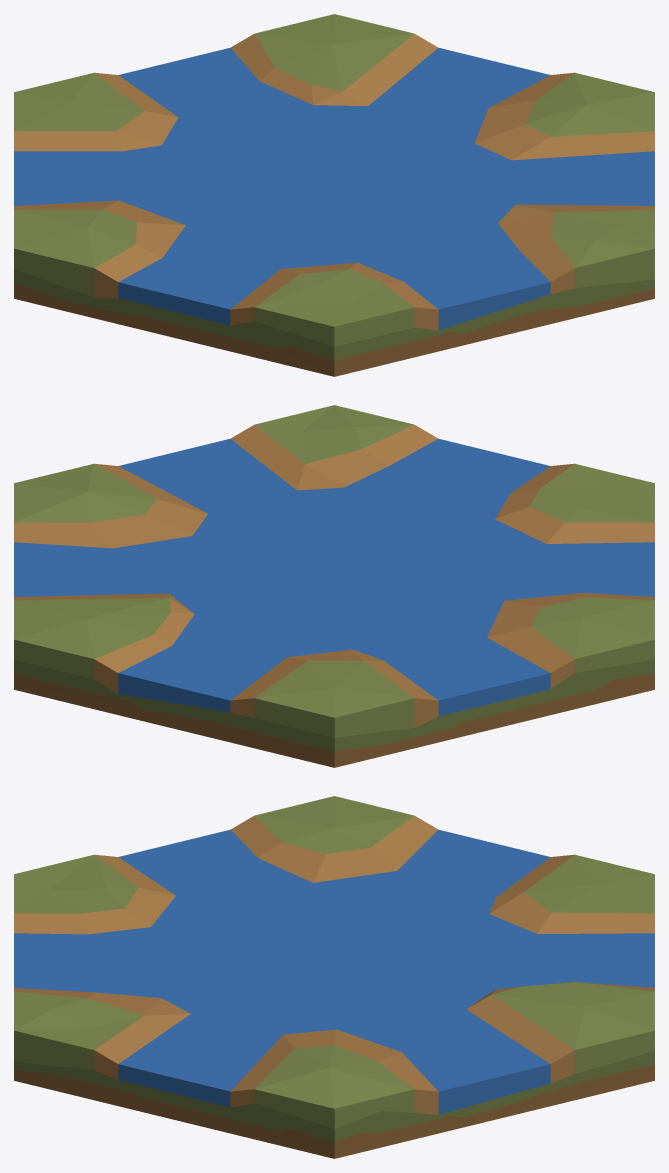
File: SM_Tile_Hex_River_10.glb
The picture shows the model from 3 angles, top to bottom: view 1: azimuth 30°, elevation 25°; view 2: azimuth 150°, elevation 25°; view 3: azimuth 270°, elevation 25°; orthographic projection.
Visible parts, largest first — view 1: SM_Tile_Hex_River_10; view 2: SM_Tile_Hex_River_10; view 3: SM_Tile_Hex_River_10.
Part boxes in pixels (bbox=[...]): SM_Tile_Hex_River_10: bbox=[14, 14, 654, 376]; SM_Tile_Hex_River_10: bbox=[14, 405, 654, 767]; SM_Tile_Hex_River_10: bbox=[14, 796, 654, 1158].
Bounding box in the file's own units: 5.77 × 0.4862 × 5.
1 material, 1 textured.
